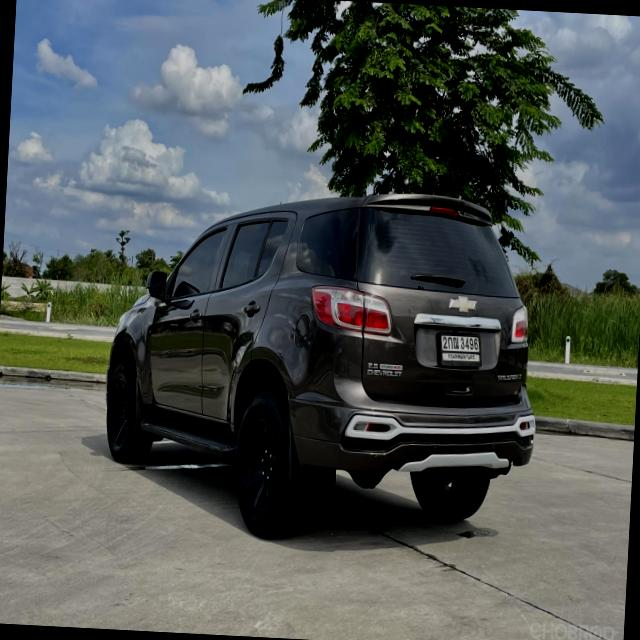license_plate: (436, 328, 486, 367)
